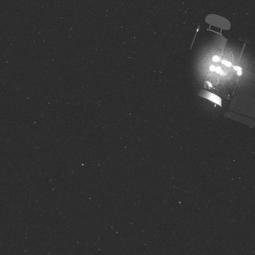earth_observation_sat_1: (174, 0, 255, 125)
